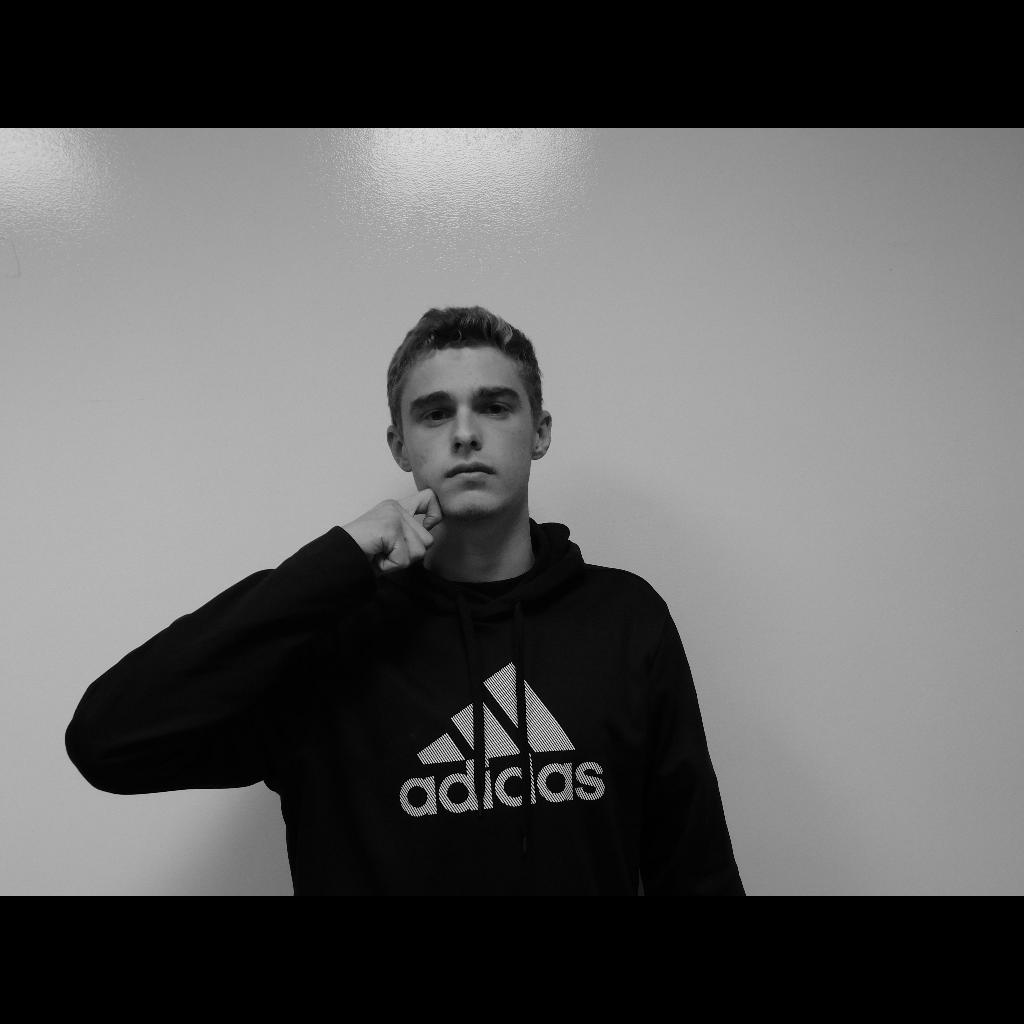apple: (344, 488, 444, 570)
